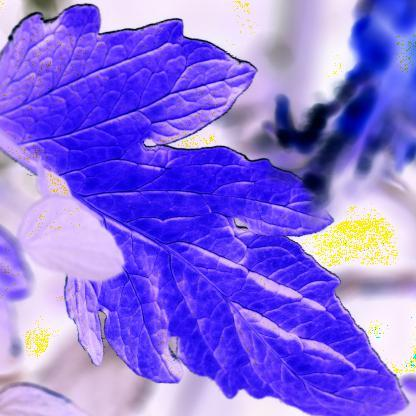Tomato leaf bacterial spot: (7, 6, 411, 413)
